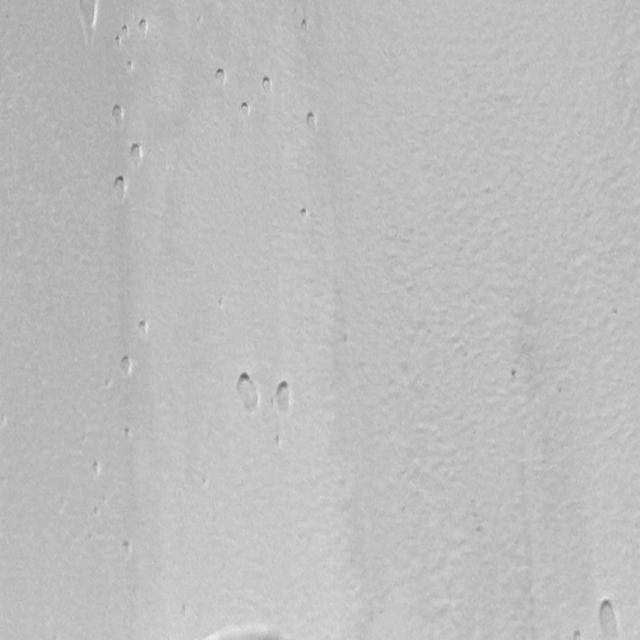pin holes: (232, 372, 265, 422), (593, 595, 626, 640), (71, 0, 99, 34), (275, 379, 297, 416), (110, 173, 130, 202), (302, 112, 322, 136), (110, 104, 129, 128), (120, 356, 138, 380), (128, 143, 146, 167), (214, 66, 231, 88), (136, 315, 152, 337), (260, 76, 274, 98), (89, 460, 104, 480), (239, 99, 253, 119), (298, 205, 313, 222), (136, 17, 150, 35), (121, 539, 135, 557), (122, 425, 136, 442), (509, 368, 523, 385), (271, 433, 285, 450), (299, 17, 312, 32), (125, 58, 136, 74), (101, 375, 112, 390), (114, 36, 125, 50), (572, 628, 586, 639), (121, 22, 131, 36)
